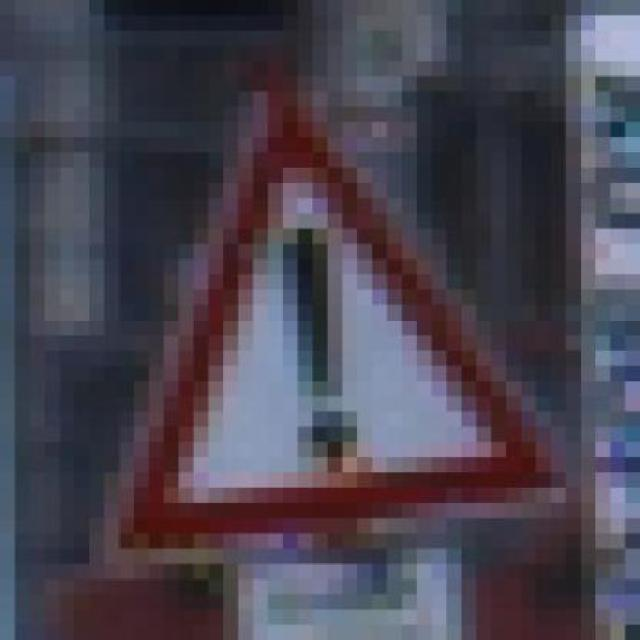Attention Please-: (74, 76, 580, 579)
